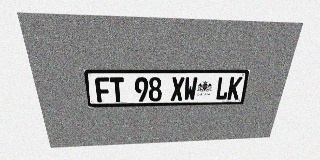8: (149, 77, 162, 101)
9: (135, 77, 148, 102)
F: (94, 77, 111, 102)
K: (227, 77, 243, 100)
L: (215, 77, 230, 100)
T: (109, 77, 125, 102)
W: (183, 77, 198, 101)
X: (170, 77, 185, 101)
